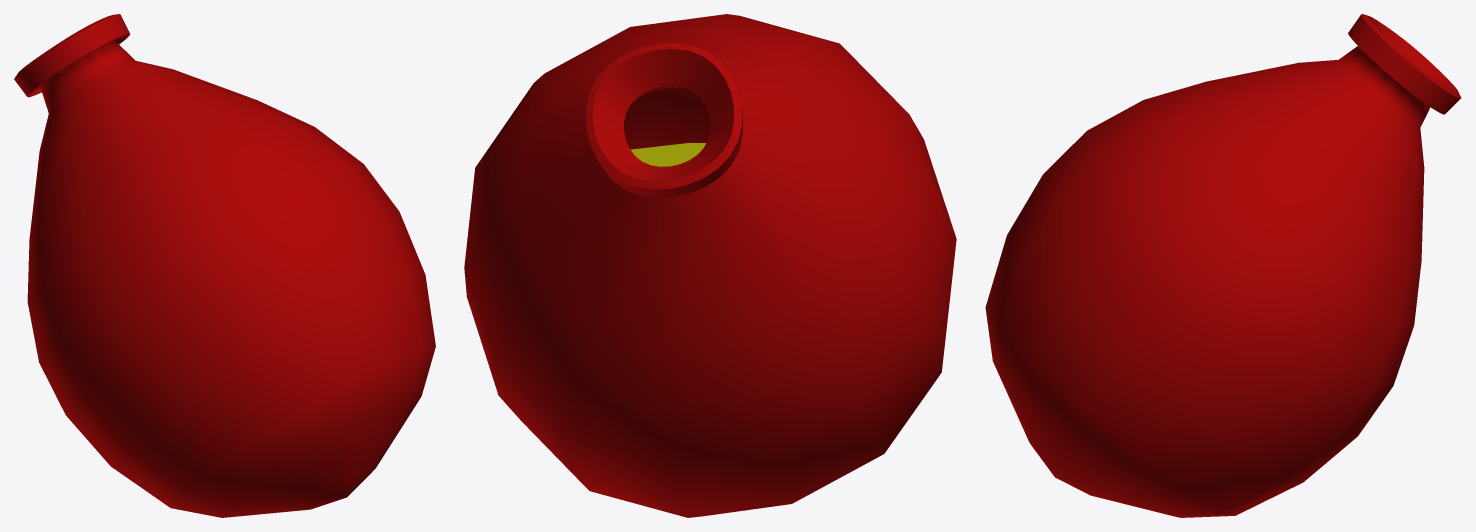
The model's file is BigFlask.fbx.
The picture shows the model from 3 angles, left to right: view 1: azimuth 30°, elevation 25°; view 2: azimuth 150°, elevation 25°; view 3: azimuth 270°, elevation 25°; orthographic projection. The views are drawn at different scales.
Parts seen in each view (by area): view 1: BigFlask; view 2: BigFlask; view 3: BigFlask.
Boxes of the visible parts, x1,y1,x2,y2 form: BigFlask: (14,14,435,517); BigFlask: (464,14,956,517); BigFlask: (985,14,1461,517).
Size of the model in its own units: 28.6 by 34.39 by 33.1.
